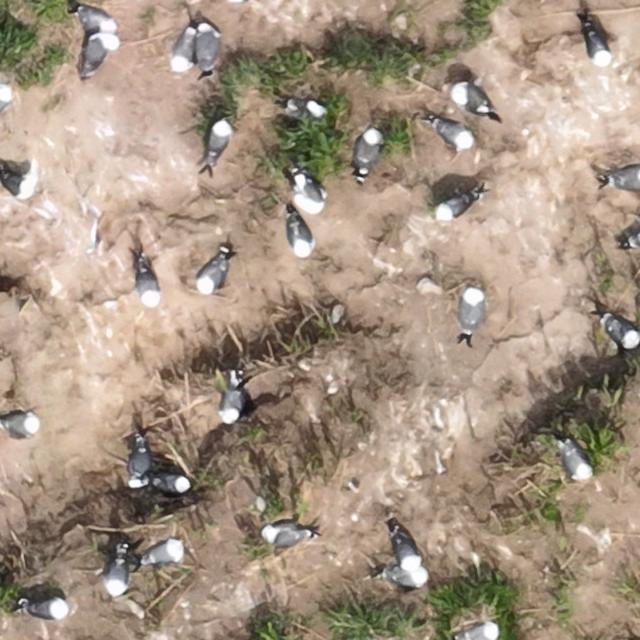umineko: (76, 34, 119, 81), (394, 532, 422, 574), (356, 128, 382, 169), (460, 288, 483, 332), (605, 318, 638, 348), (196, 25, 219, 68), (197, 257, 226, 291), (435, 122, 472, 147), (564, 444, 591, 478), (378, 571, 432, 587), (27, 599, 68, 620), (1, 412, 40, 434), (456, 86, 489, 112), (438, 193, 472, 218), (210, 118, 231, 158), (222, 384, 244, 422), (145, 541, 182, 563), (174, 29, 196, 66), (1, 170, 32, 196), (265, 524, 305, 544), (139, 266, 160, 304), (298, 178, 322, 211), (80, 9, 114, 32), (289, 221, 311, 256), (129, 445, 149, 483), (587, 32, 610, 64), (108, 560, 129, 594), (458, 622, 496, 640), (611, 165, 640, 188), (156, 473, 188, 493), (290, 98, 323, 116)
